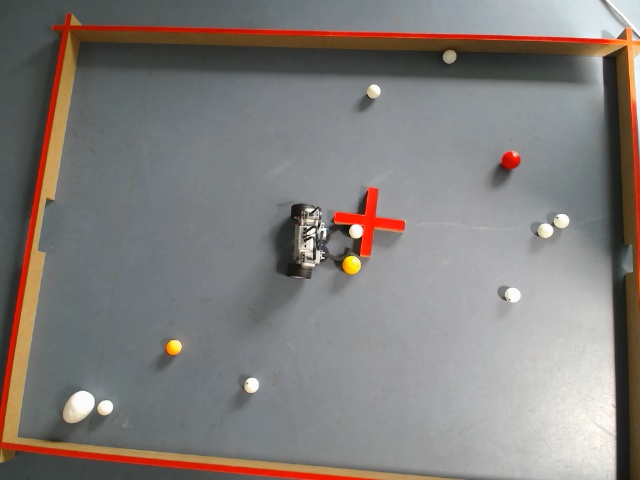big_goal: (24, 192, 54, 252)
cross: (332, 186, 404, 258)
egg: (60, 390, 93, 426)
orange: (164, 339, 183, 354)
robot: (286, 203, 351, 278)
small_goal: (624, 243, 638, 275)
wall: (1, 27, 82, 435), (2, 435, 447, 477), (68, 24, 624, 57), (617, 42, 638, 476)
white: (242, 375, 258, 393), (554, 213, 570, 228), (504, 288, 520, 302), (442, 48, 456, 63), (348, 222, 362, 237), (98, 401, 112, 416), (367, 84, 380, 99), (537, 224, 552, 237)
